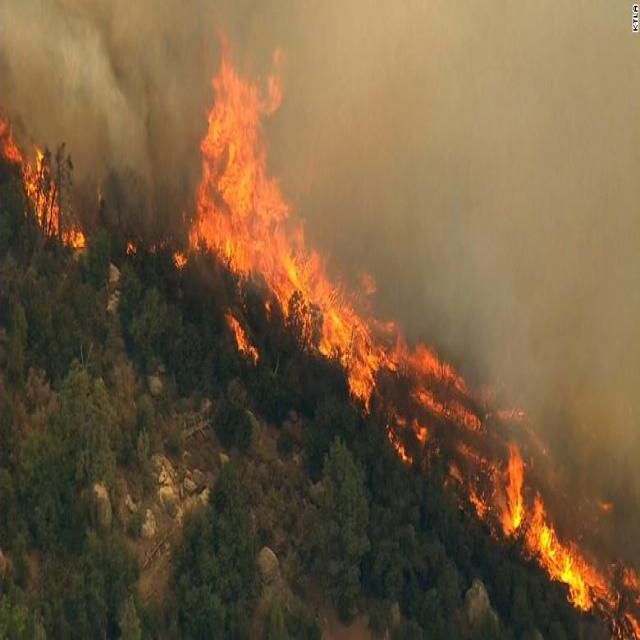fire: (192, 63, 285, 274), (291, 248, 382, 402), (530, 496, 612, 614), (388, 327, 481, 427), (498, 438, 526, 538)
